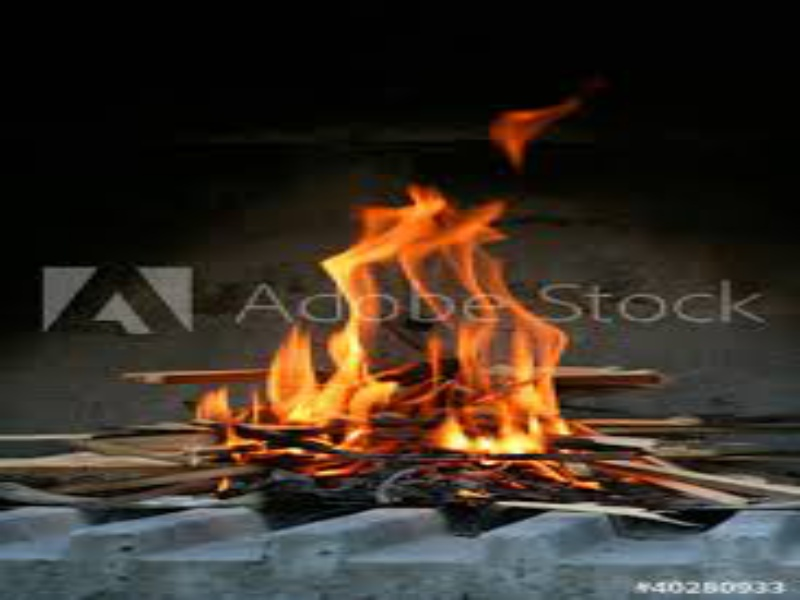fire: (266, 171, 569, 459), (478, 92, 576, 167), (190, 388, 249, 445)
